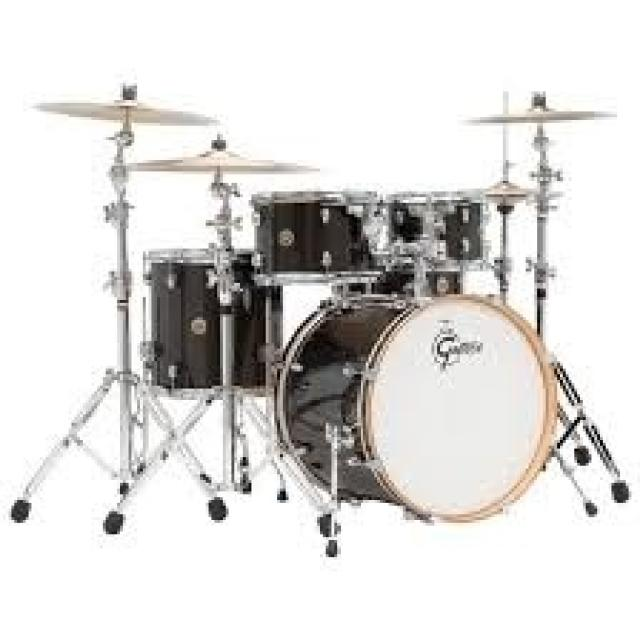drums: (16, 87, 630, 566)
